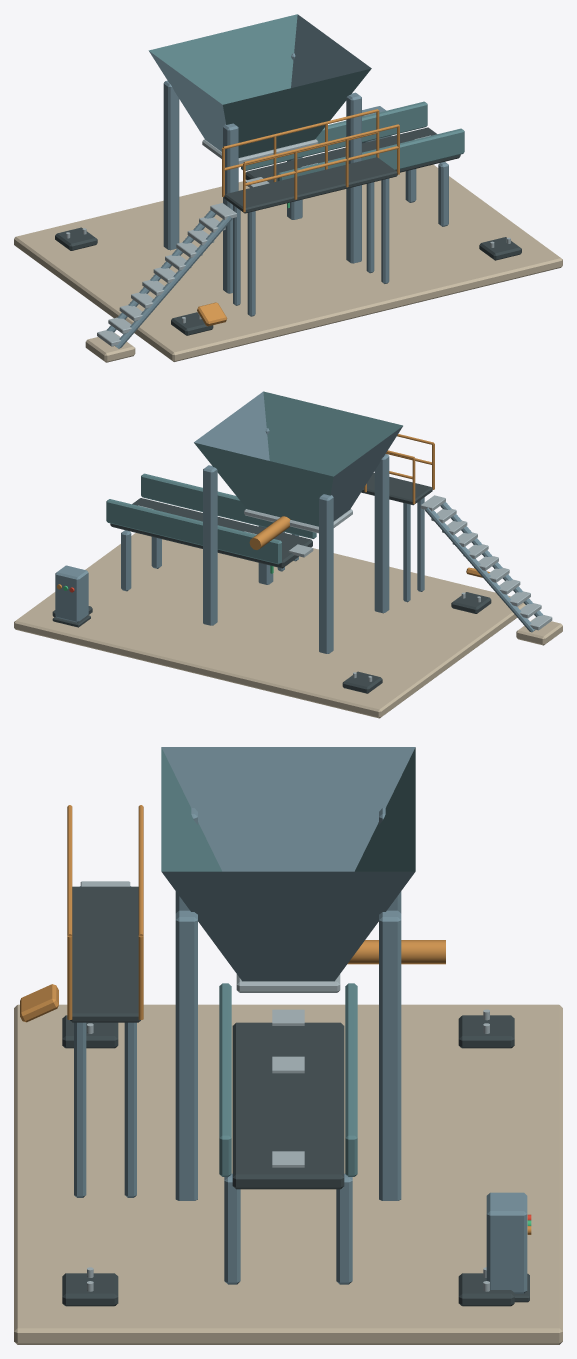
Rendered from CHARGE-A-lod2.glb.
The picture shows the model from 3 angles, top to bottom: view 1: azimuth 30°, elevation 25°; view 2: azimuth 150°, elevation 25°; view 3: azimuth 270°, elevation 25°; orthographic projection. The views are drawn at different scales.
Parts seen in each view (by area): view 1: foundation, hopper_side_-1, hopper_side_1, loading_service_deck, hopper_end_1, hopper_leg_-1.7_-1, chute_wall_-0.62, chute_wall_0.62, hopper_end_-1, hopper_leg_0.7_1, feed_chute, hopper_leg_-1.7_1 (+16 smaller); view 2: foundation, hopper_side_1, hopper_side_-1, chute_wall_-0.62, hopper_end_1, chute_wall_0.62, hopper_leg_-1.7_1, hopper_leg_0.7_-1, hopper_leg_-1.7_-1, feed_chute, hopper_end_-1, control_cabinet (+11 smaller); view 3: foundation, hopper_end_-1, hopper_end_1, feed_chute, loading_service_deck, hopper_leg_0.7_-1, hopper_leg_0.7_1, control_cabinet, hopper_side_-1, hopper_side_1, chute_wall_-0.62, chute_wall_0.62 (+13 smaller).
Boxes of the visible parts, box(x1,y1,x2,y2) form: foundation: box(14, 164, 562, 361); hopper_side_-1: box(149, 14, 297, 104); hopper_side_1: box(223, 68, 371, 157); loading_service_deck: box(224, 157, 397, 213); hopper_end_1: box(291, 14, 371, 87); hopper_leg_-1.7_-1: box(163, 80, 179, 250); chute_wall_-0.62: box(241, 101, 427, 170); chute_wall_0.62: box(277, 128, 464, 181); hopper_end_-1: box(149, 51, 226, 151); hopper_leg_0.7_1: box(346, 92, 361, 263); feed_chute: box(245, 127, 460, 182); hopper_leg_-1.7_1: box(223, 123, 238, 293); foundation: box(14, 533, 525, 718); hopper_side_1: box(263, 391, 402, 476); hopper_side_-1: box(194, 442, 333, 526); chute_wall_-0.62: box(106, 499, 281, 564); hopper_end_1: box(194, 392, 269, 460); chute_wall_0.62: box(141, 473, 316, 538); hopper_leg_-1.7_1: box(374, 454, 389, 613); hopper_leg_0.7_-1: box(203, 465, 217, 625); hopper_leg_-1.7_-1: box(319, 494, 333, 653); feed_chute: box(110, 498, 312, 568); hopper_end_-1: box(330, 426, 402, 521); control_cabinet: box(55, 565, 88, 622); foundation: box(14, 1004, 562, 1344); hopper_end_-1: box(161, 747, 415, 871); hopper_end_1: box(162, 871, 414, 981); feed_chute: box(232, 1022, 344, 1189); loading_service_deck: box(70, 886, 140, 1022); hopper_leg_0.7_-1: box(379, 910, 401, 1200); hopper_leg_0.7_1: box(175, 910, 197, 1200); control_cabinet: box(486, 1192, 527, 1293); hopper_side_-1: box(355, 747, 415, 871); hopper_side_1: box(161, 747, 221, 871); chute_wall_-0.62: box(345, 983, 357, 1176); chute_wall_0.62: box(219, 983, 231, 1176).
Bounding box in the file's own units: 8.6 × 3.82 × 5.4.
